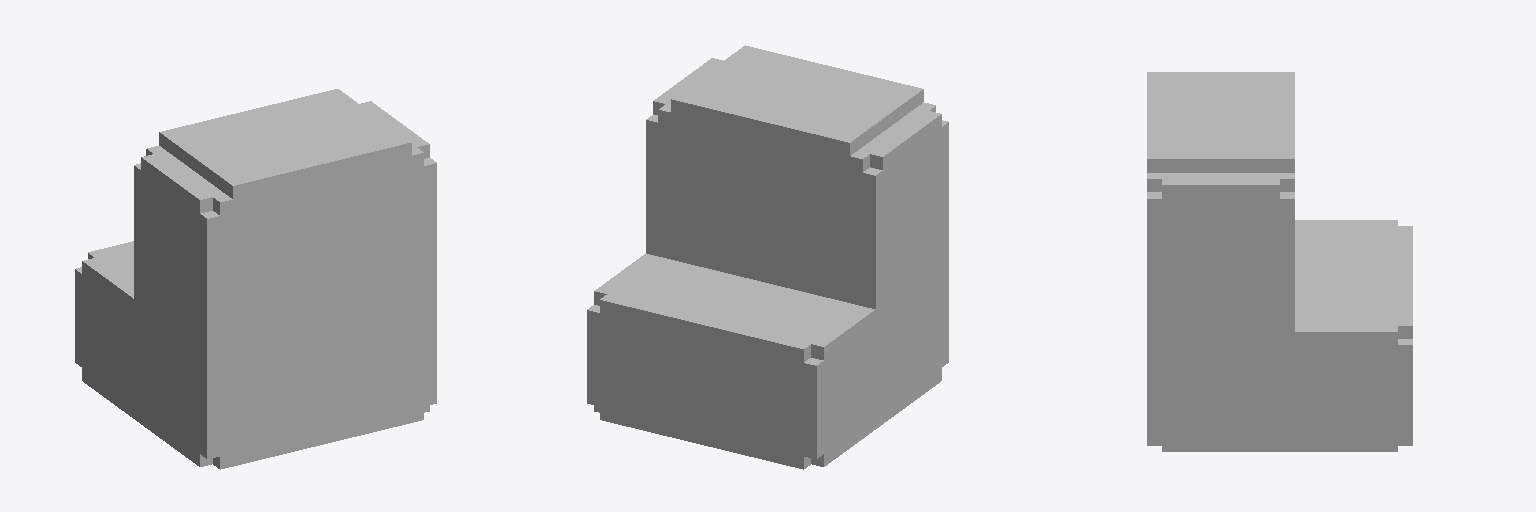
File: sofa.obj
3 renders of one model, left to right at view 1: azimuth 30°, elevation 25°; view 2: azimuth 150°, elevation 25°; view 3: azimuth 270°, elevation 25°, orthographic.
Visible parts, largest first — view 1: object 1; view 2: object 1; view 3: object 1.
Part boxes in pixels (bbox=[...]): object 1: bbox=[75, 89, 436, 469]; object 1: bbox=[587, 45, 948, 469]; object 1: bbox=[1147, 72, 1412, 451].
Size of the model in its own units: 1.8 by 2.1 by 1.8.